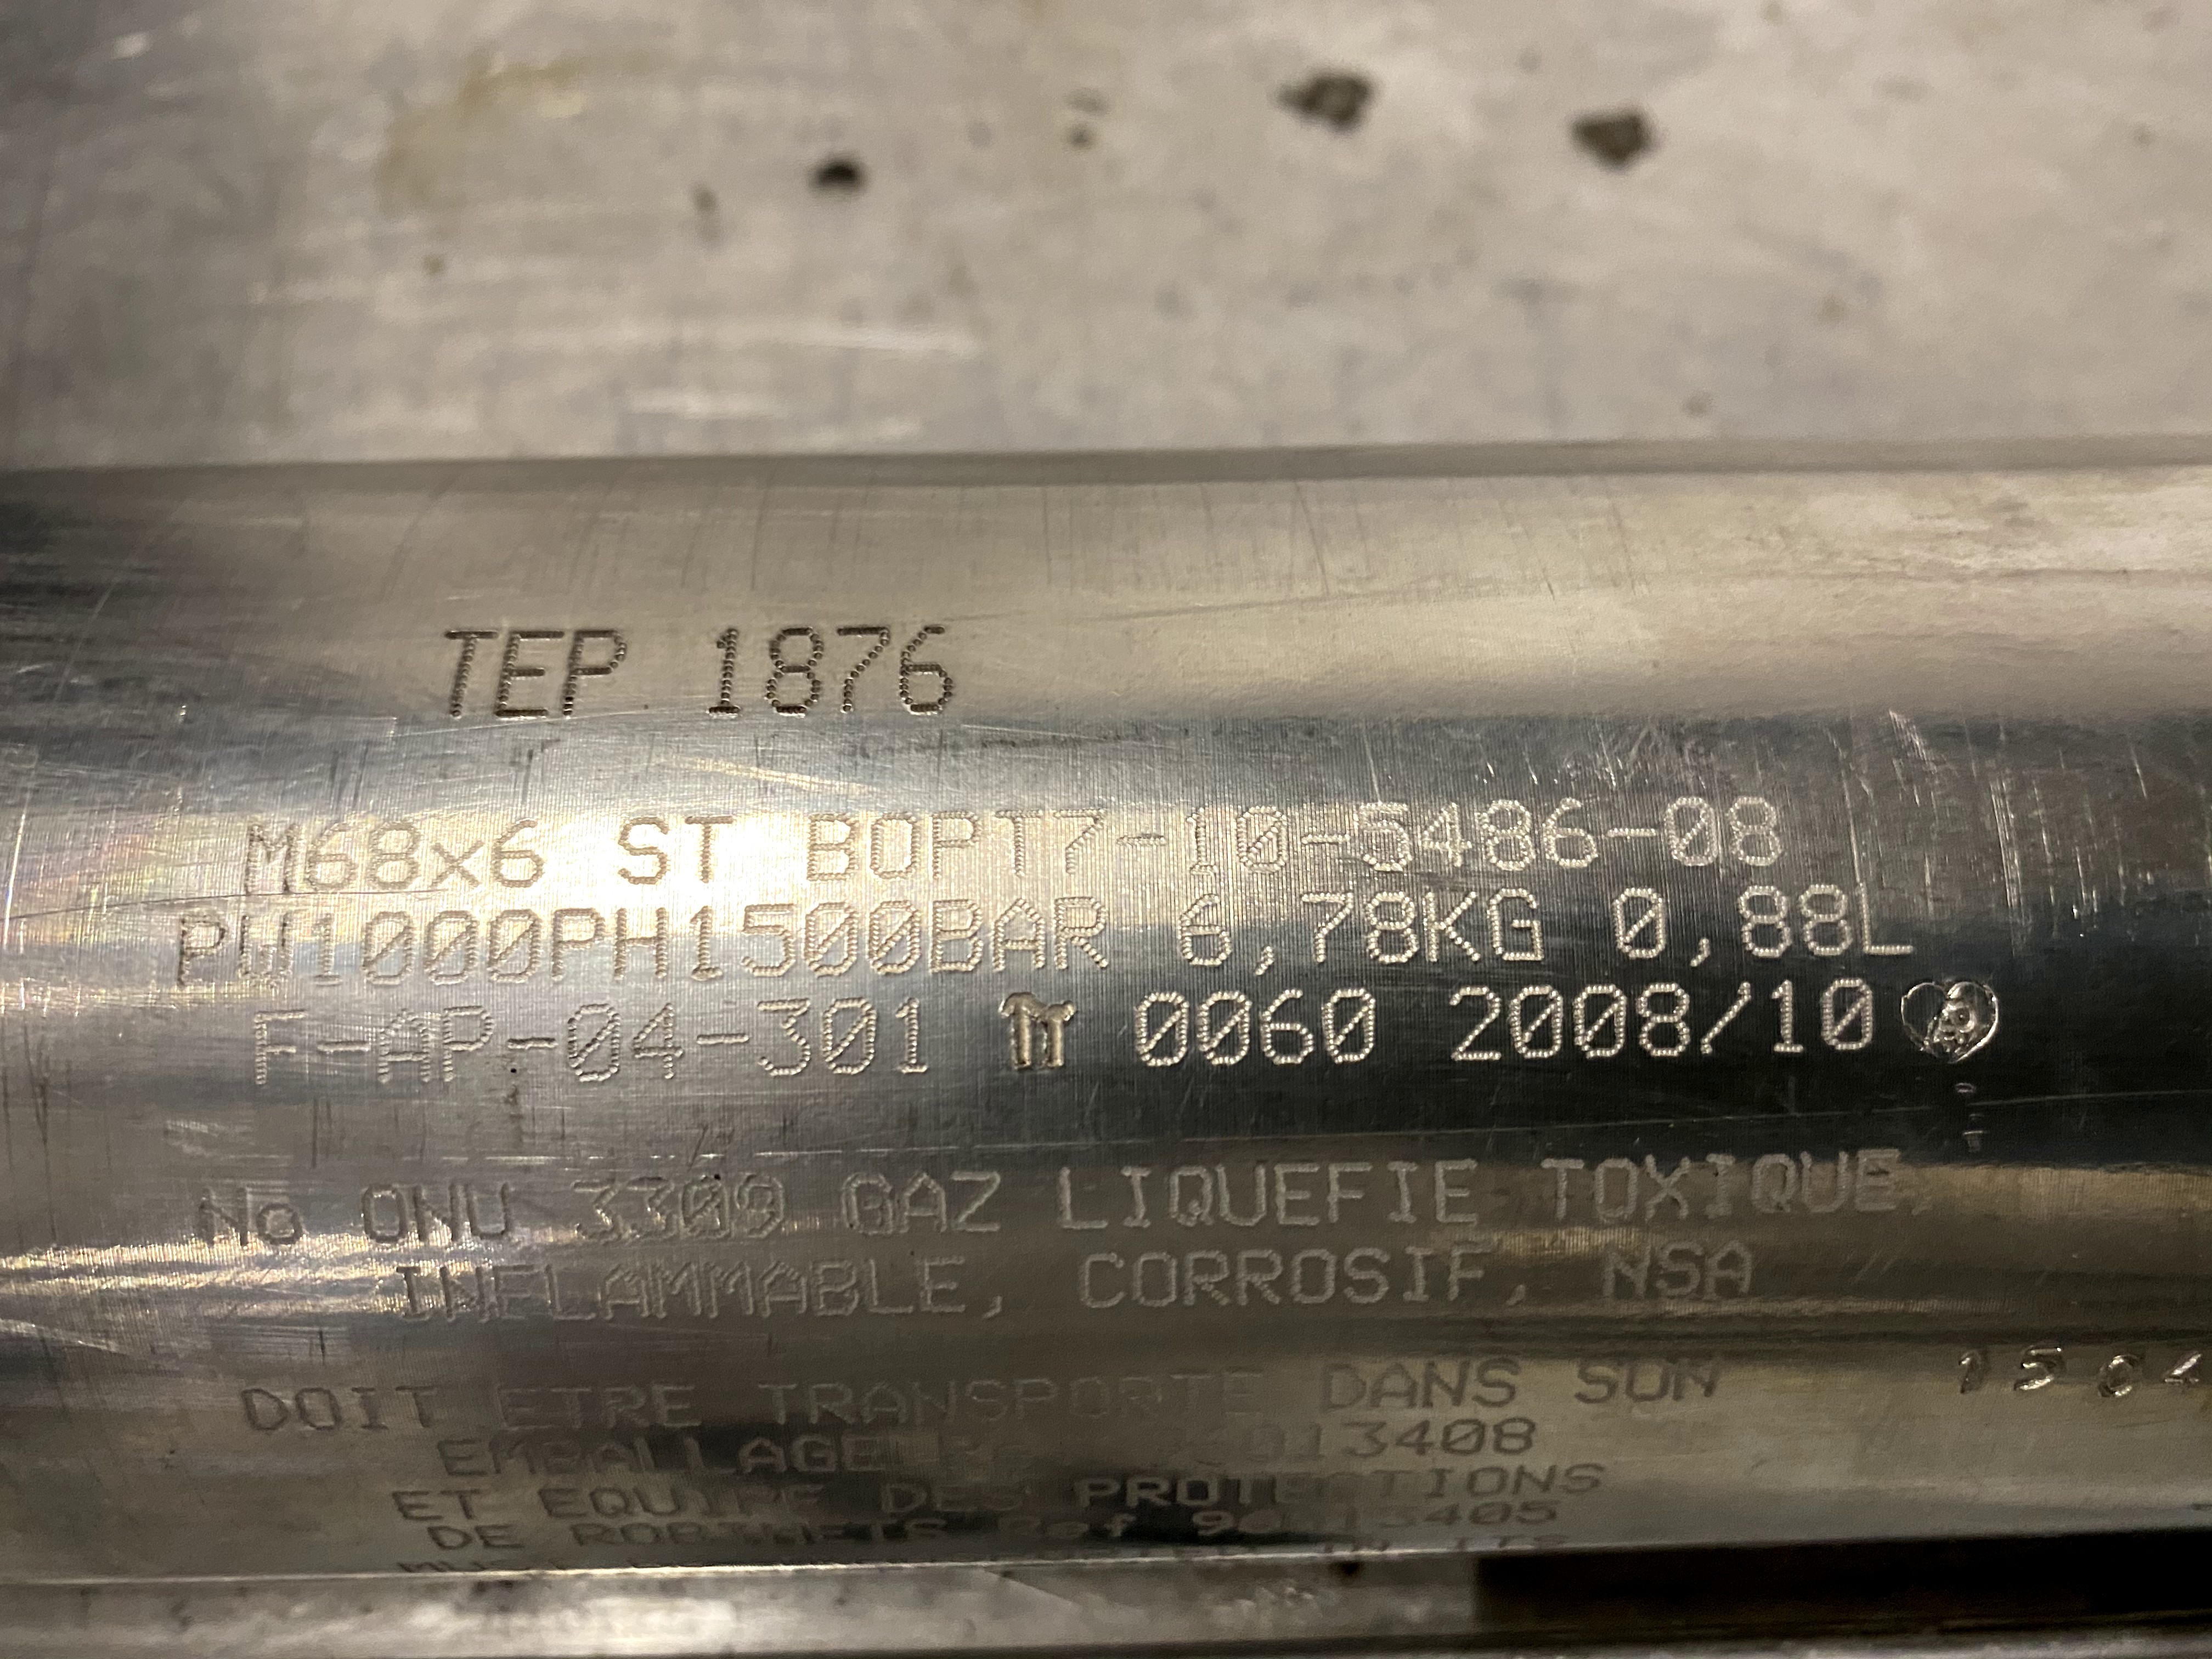character: (895, 615, 968, 725), (995, 983, 1080, 1077), (427, 624, 500, 730), (758, 619, 829, 723), (1345, 791, 1420, 880), (826, 626, 895, 718), (1848, 877, 1923, 962), (1317, 979, 1385, 1073), (1606, 882, 1679, 967), (1731, 884, 1803, 971), (564, 624, 634, 713), (860, 800, 927, 892), (1660, 784, 1726, 877), (563, 999, 629, 1091), (162, 911, 233, 997), (751, 993, 820, 1080), (1501, 978, 1568, 1068), (500, 617, 556, 723), (1717, 793, 1794, 870), (608, 812, 683, 890), (1259, 983, 1324, 1073), (1630, 979, 1698, 1065), (1568, 979, 1632, 1068), (242, 1004, 314, 1084), (700, 624, 758, 723), (432, 1004, 500, 1087), (1191, 988, 1259, 1072), (1129, 986, 1195, 1072), (1474, 795, 1540, 878), (233, 910, 303, 988), (188, 1180, 254, 1262), (740, 899, 803, 985), (819, 992, 881, 1077), (860, 897, 927, 978), (1291, 885, 1355, 967), (242, 814, 300, 904), (355, 904, 416, 990), (1489, 884, 1550, 969), (1420, 889, 1486, 967), (1540, 795, 1604, 875), (1792, 1141, 1851, 1229), (1848, 1136, 1904, 1229), (482, 904, 545, 986), (1447, 979, 1505, 1068), (610, 904, 671, 988), (1817, 972, 1878, 1056), (1364, 887, 1423, 972), (883, 990, 941, 1077), (374, 1006, 435, 1087), (1169, 896, 1238, 967), (927, 805, 986, 889), (1207, 1152, 1271, 1229), (894, 1166, 956, 1244), (1050, 1162, 1113, 1241), (631, 1002, 690, 1084), (566, 1164, 624, 1248), (545, 901, 606, 979), (700, 1253, 761, 1331), (1698, 979, 1754, 1065), (805, 899, 864, 979), (1794, 880, 1853, 960), (484, 814, 547, 889), (730, 1164, 792, 1239), (838, 1168, 899, 1244), (364, 821, 423, 899), (989, 894, 1049, 972), (803, 809, 860, 889), (1054, 890, 1111, 971), (423, 904, 481, 983), (1594, 1237, 1656, 1309), (1639, 1143, 1695, 1223), (1235, 795, 1289, 877), (927, 897, 984, 974), (1420, 795, 1472, 878), (648, 1256, 704, 1335), (408, 1176, 467, 1249), (1052, 805, 1109, 880), (948, 1164, 1008, 1234), (1700, 1239, 1759, 1310), (1268, 1157, 1322, 1234), (1430, 1150, 1484, 1227), (1231, 1248, 1289, 1319), (758, 1255, 810, 1333), (678, 1168, 733, 1241), (540, 1260, 596, 1333), (683, 812, 740, 882), (862, 1249, 913, 1328), (357, 1180, 411, 1253), (435, 1258, 489, 1331), (462, 1180, 523, 1244), (1338, 1246, 1399, 1310), (808, 1253, 862, 1324), (1172, 802, 1221, 880), (1163, 1159, 1214, 1234), (1592, 1154, 1642, 1229), (998, 805, 1050, 877), (625, 1171, 676, 1244), (683, 903, 730, 981), (1069, 1249, 1129, 1310), (916, 1249, 963, 1326), (1179, 1248, 1233, 1314), (489, 1256, 538, 1330), (1381, 1150, 1425, 1232), (1285, 1246, 1338, 1314), (310, 817, 357, 892), (1320, 1155, 1367, 1229), (1752, 1148, 1801, 1218), (1768, 976, 1804, 1065), (1446, 1237, 1493, 1305), (603, 1258, 646, 1331), (1540, 1150, 1585, 1220), (1656, 1236, 1702, 1305), (423, 840, 488, 889), (307, 910, 345, 990), (1132, 1249, 1179, 1314), (1399, 1243, 1440, 1314), (390, 1258, 434, 1326), (1122, 1161, 1157, 1234), (1705, 1143, 1735, 1229), (258, 1199, 307, 1246), (1115, 823, 1170, 861), (1292, 824, 1348, 856), (310, 1033, 371, 1061), (502, 1033, 559, 1061), (1689, 929, 1724, 972), (1601, 823, 1663, 845), (691, 1028, 754, 1051)
